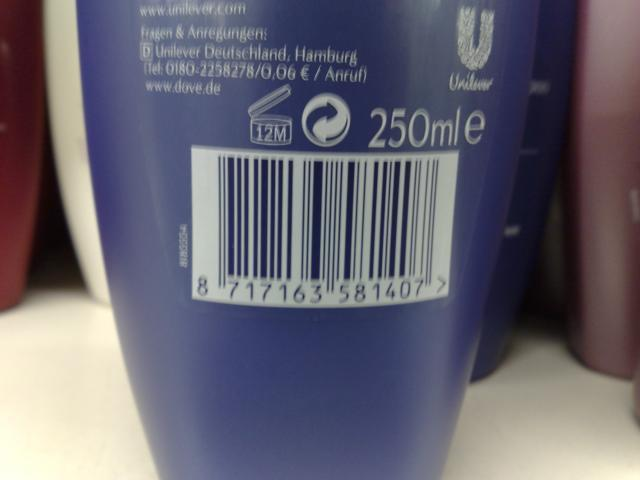Barcode: (191, 148, 459, 309)
